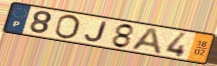4: (163, 31, 187, 58)
8: (111, 22, 136, 50), (29, 10, 53, 35)
A: (128, 26, 164, 56)
J: (84, 20, 109, 43)
O: (53, 13, 82, 40)
